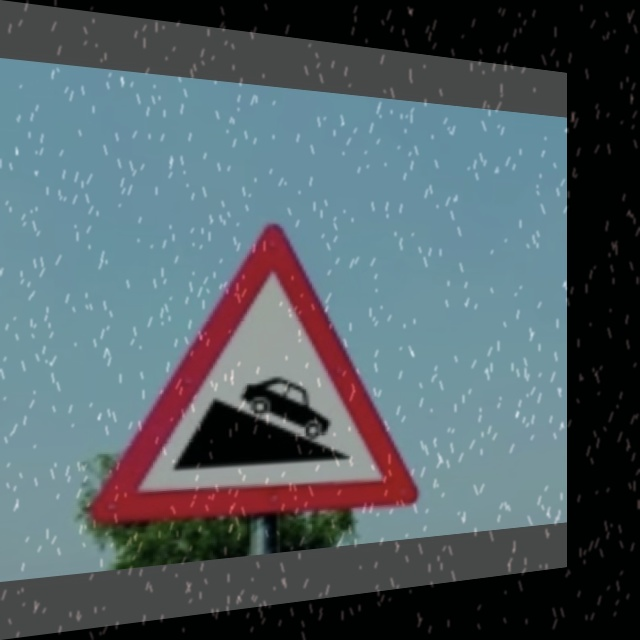Steep_Descent: (94, 220, 414, 528)
